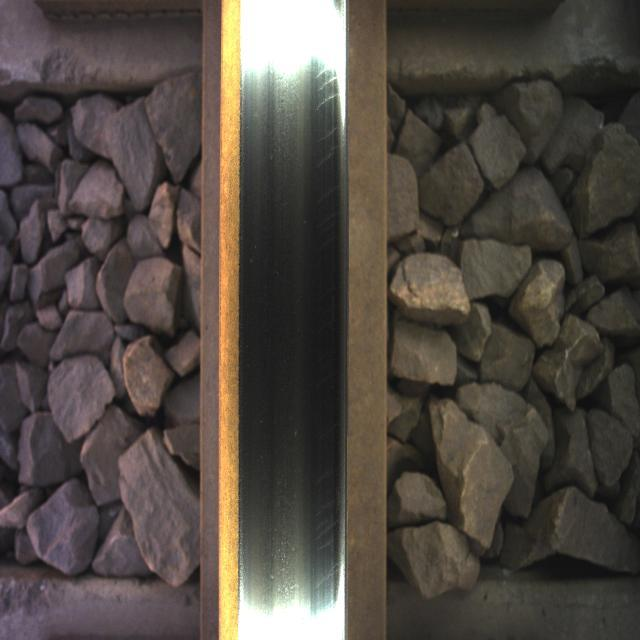break: (242, 20, 342, 599)
